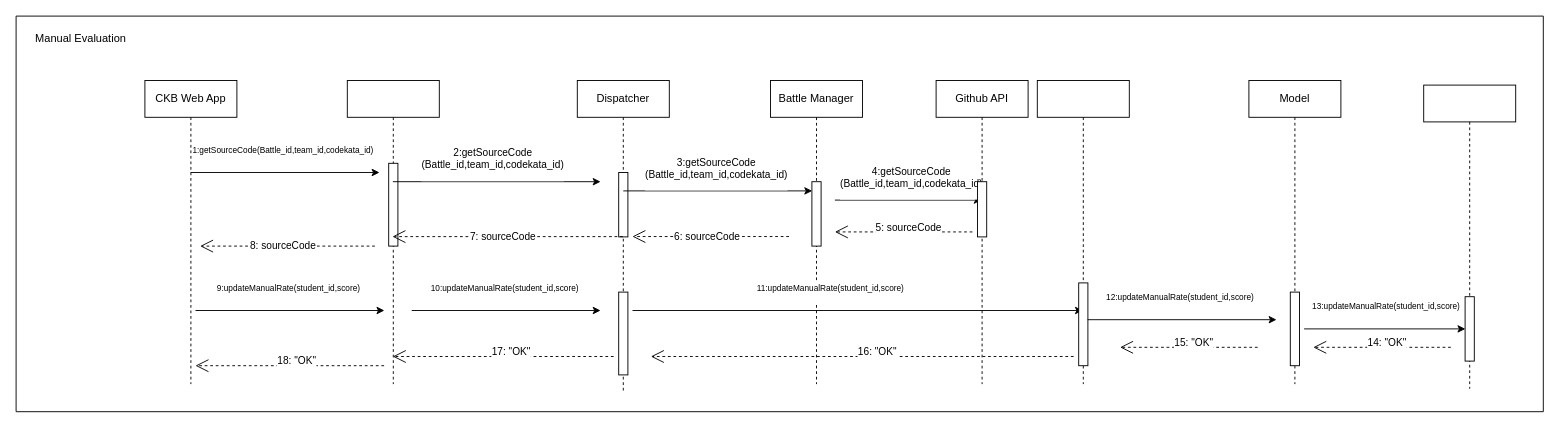
Image size: 1559x428. Some labels were removed from this diagram. Here are the shapes that lost their labels. From the top down, the box of each, then its label:
(346, 80, 439, 384): Web Server
(1036, 80, 1129, 384): Score Manager
(1423, 84, 1516, 389): DBMS
